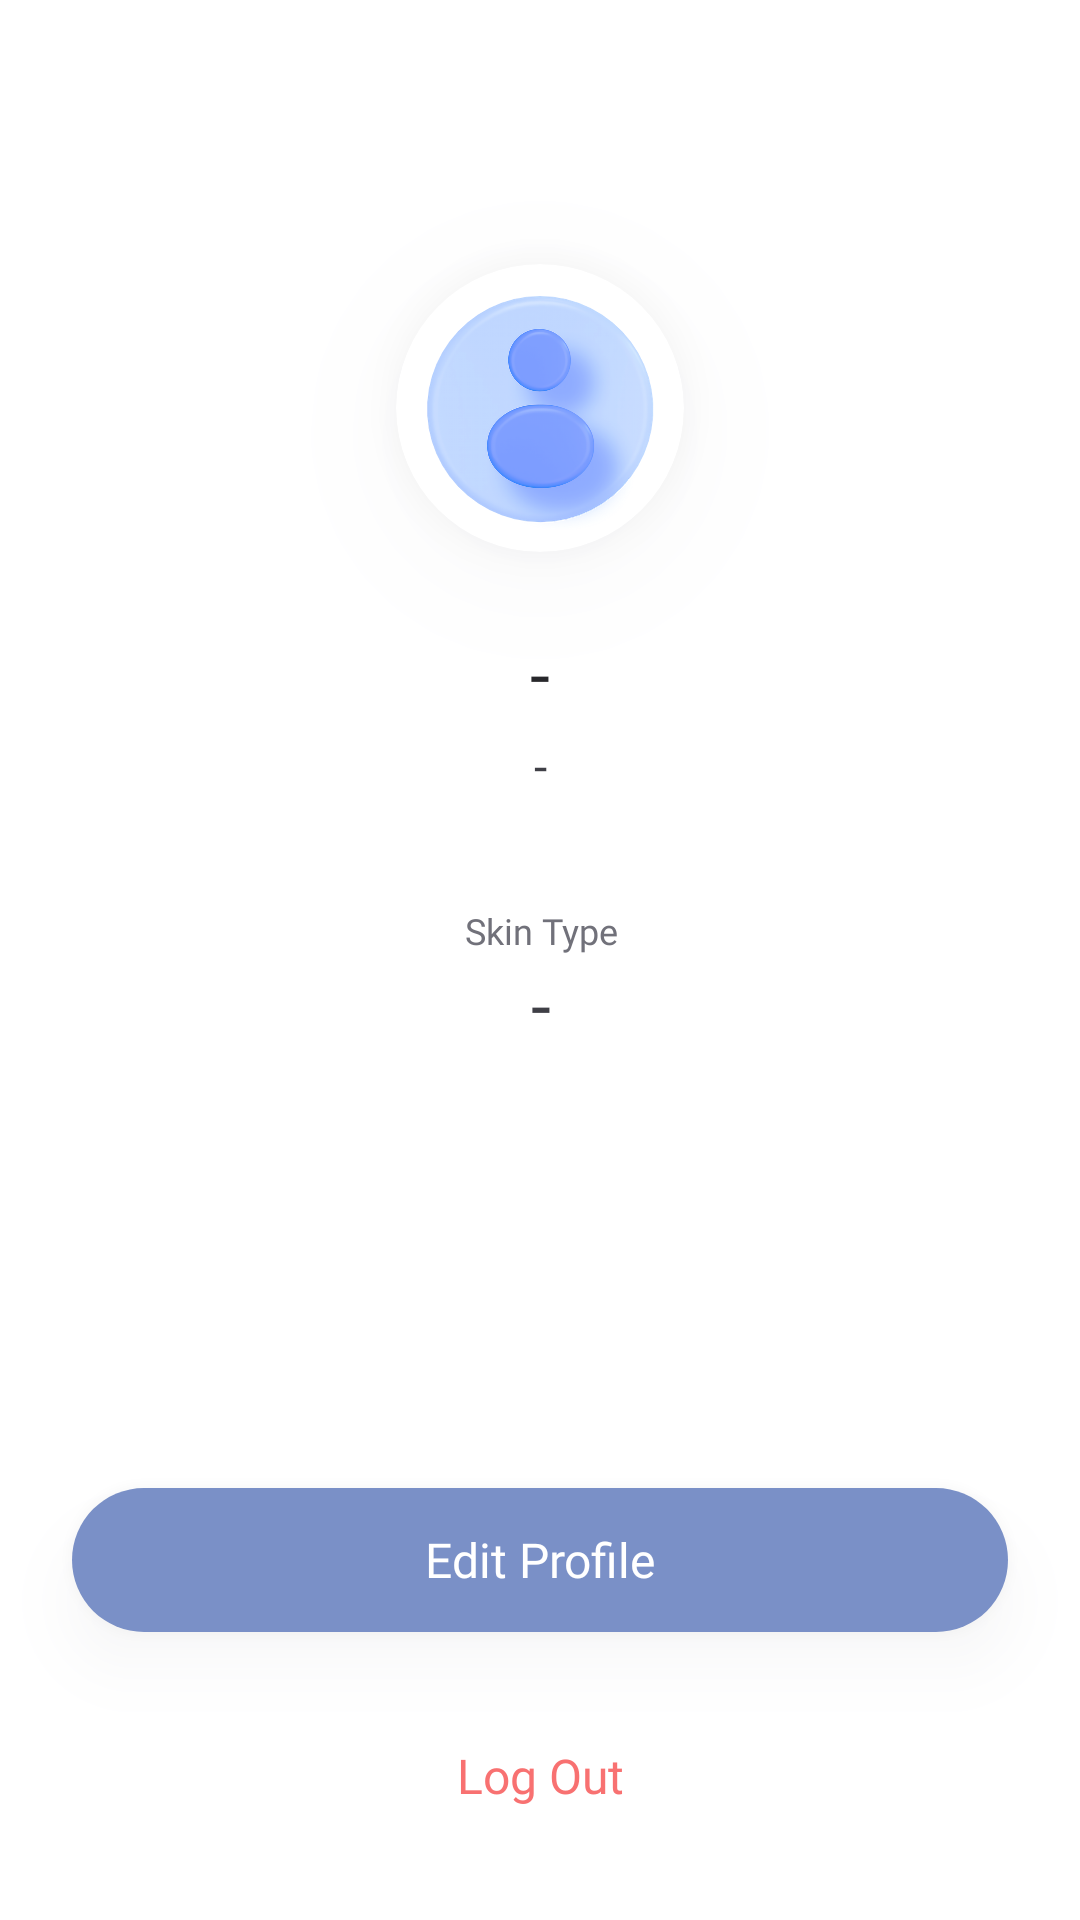

Named icons in this screenshot (1080w x 1920h) and their bounding boxes, (x1, y1, x2, y2):
user: (427, 296, 653, 522)
